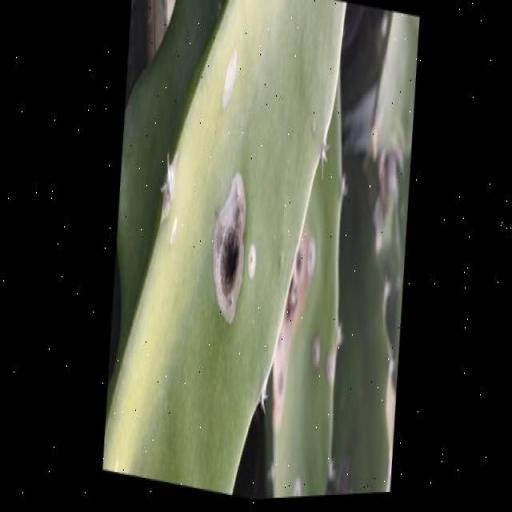stemcanker: (295, 80, 324, 150), (246, 234, 265, 292), (312, 330, 326, 372)
